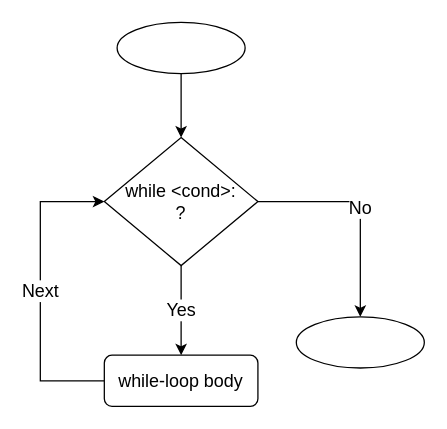
Some shapes in this 447 by 429 pixel diagram are drawn without their labels. Here are the shapes that lost their labels. From the top down, the centre of each, then its label:
At (x=180, y=47): "Start".
At (x=359, y=342): "Stop".
